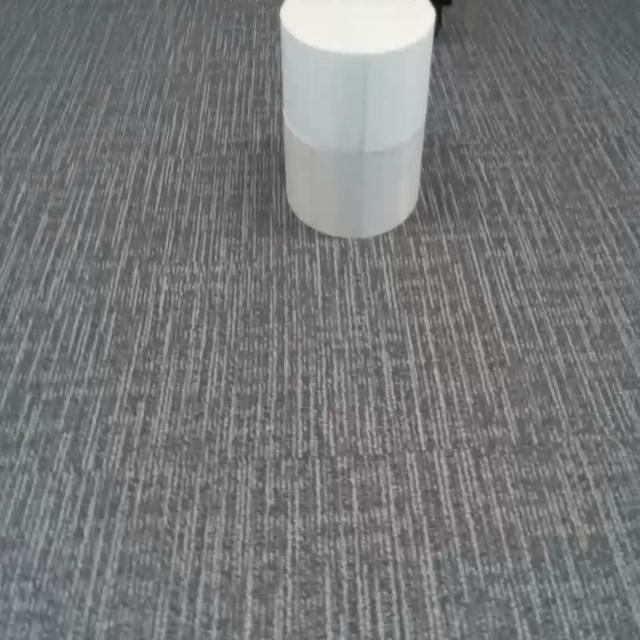cylinder: (279, 0, 437, 240)
